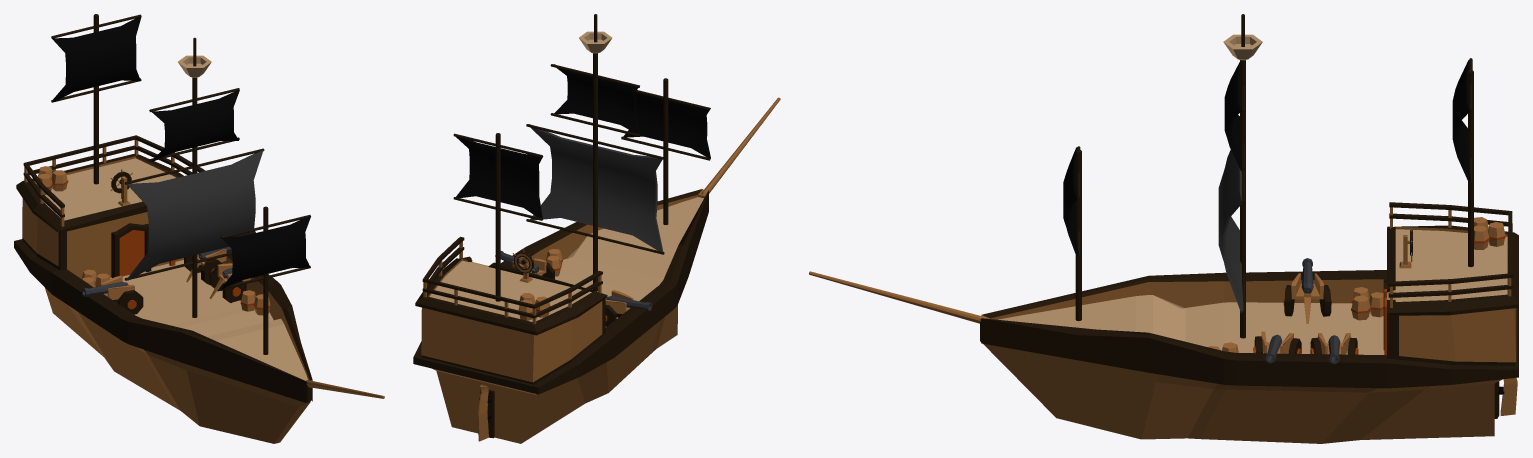
File: Pirate-Ship2.0.fbx
The picture shows the model from 3 angles, left to right: view 1: azimuth 30°, elevation 25°; view 2: azimuth 150°, elevation 25°; view 3: azimuth 270°, elevation 25°; orthographic projection. The views are drawn at different scales.
Visible parts, largest first — view 1: Cube, Plane.004, Plane.003, Plane.001, Plane.002, Cube.015, Cylinder.024, Cube.008, Cube.011, Cylinder.025, Cylinder.002, Cylinder.023 (+5 smaller); view 2: Cube, Plane.004, Plane.003, Plane.001, Plane.002, Cylinder.002, Cube.008, Cube.011, Cylinder.001, Cylinder.003, Cylinder.024, Cylinder.012 (+5 smaller); view 3: Cube, Plane.004, Cube.008, Cylinder.024, Plane.003, Plane.002, Cube.011, Cylinder.002, Cylinder.012, Plane.001, Cylinder.001, Cylinder.003 (+3 smaller).
Boxes of the visible parts, box(x1,y1,x2,y2) form: Cube: box(14, 153, 312, 443); Plane.004: box(127, 150, 263, 280); Plane.003: box(51, 16, 141, 102); Plane.001: box(221, 215, 310, 288); Plane.002: box(151, 90, 239, 161); Cube.015: box(111, 223, 151, 277); Cylinder.024: box(81, 275, 143, 314); Cube.008: box(23, 135, 205, 208); Cube.011: box(23, 145, 192, 217); Cylinder.025: box(209, 263, 250, 302); Cylinder.002: box(192, 37, 197, 317); Cylinder.023: box(184, 246, 231, 285); Cube: box(413, 189, 708, 443); Plane.004: box(529, 124, 663, 251); Plane.003: box(456, 137, 543, 220); Plane.001: box(623, 92, 710, 158); Plane.002: box(554, 64, 640, 134); Cylinder.002: box(593, 14, 597, 291); Cube.008: box(422, 236, 602, 308); Cube.011: box(422, 247, 602, 318); Cylinder.001: box(495, 133, 500, 301); Cylinder.003: box(663, 78, 668, 224); Cylinder.024: box(605, 290, 652, 326); Cylinder.012: box(701, 97, 780, 195); Cube: box(980, 225, 1518, 443); Plane.004: box(1218, 149, 1243, 313); Cube.008: box(1388, 202, 1512, 286); Cylinder.024: box(1283, 258, 1331, 323); Plane.003: box(1452, 60, 1471, 183); Plane.002: box(1224, 62, 1241, 168); Cube.011: box(1388, 213, 1512, 297); Cylinder.002: box(1240, 14, 1245, 338); Cylinder.012: box(809, 271, 987, 323); Plane.001: box(1063, 147, 1078, 256); Cylinder.001: box(1468, 70, 1473, 266); Cylinder.003: box(1075, 149, 1081, 321).
Bounding box in the file's own units: 3065 × 5910 × 9484.
